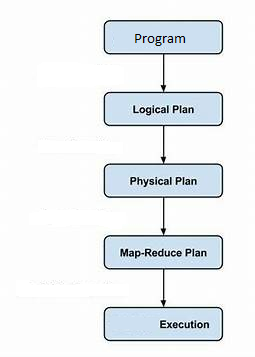arrow: (158, 266, 169, 309), (158, 123, 169, 163), (159, 52, 169, 91), (160, 195, 169, 236)
process: (101, 89, 226, 128), (100, 161, 225, 200), (101, 18, 225, 57), (101, 234, 226, 272), (101, 305, 225, 342)
text: (117, 246, 210, 261), (126, 175, 199, 188), (131, 103, 197, 117), (133, 31, 187, 47), (158, 318, 214, 329)
